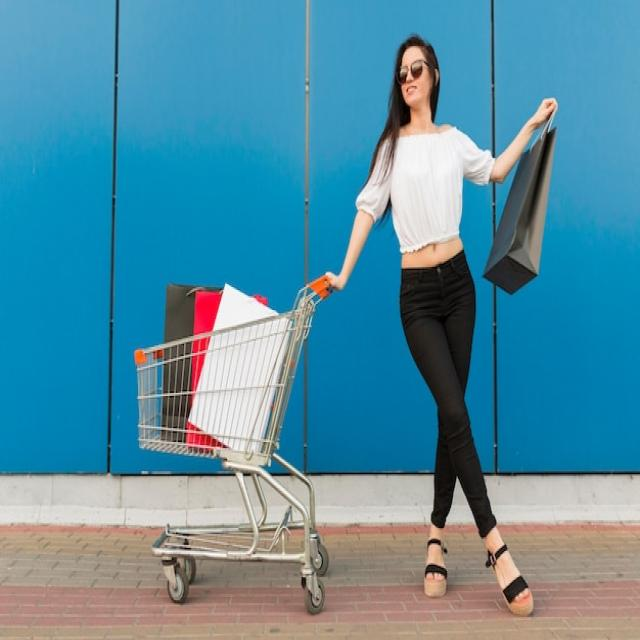Person: (328, 35, 558, 618)
